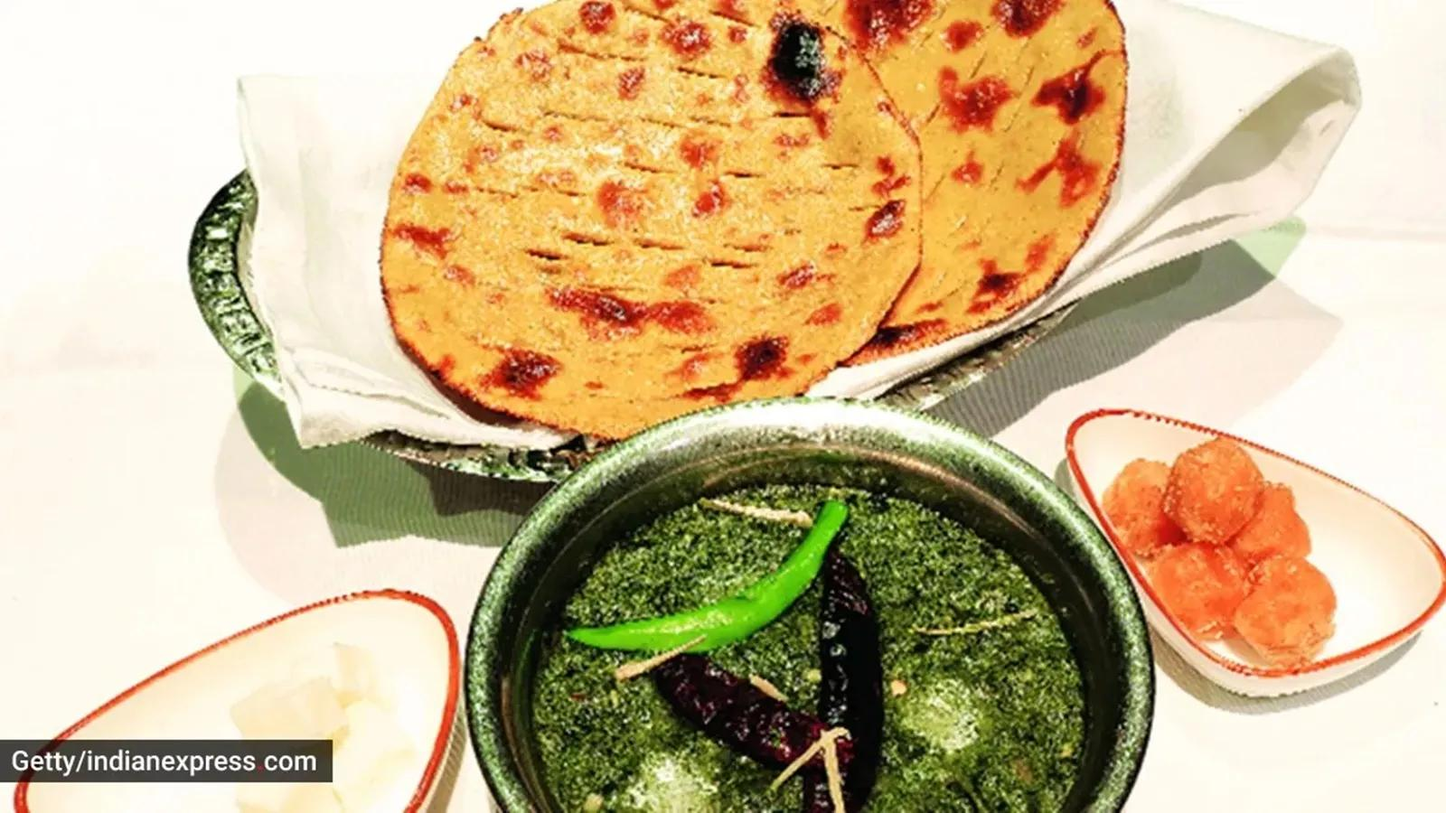saag: (538, 478, 1078, 813)
